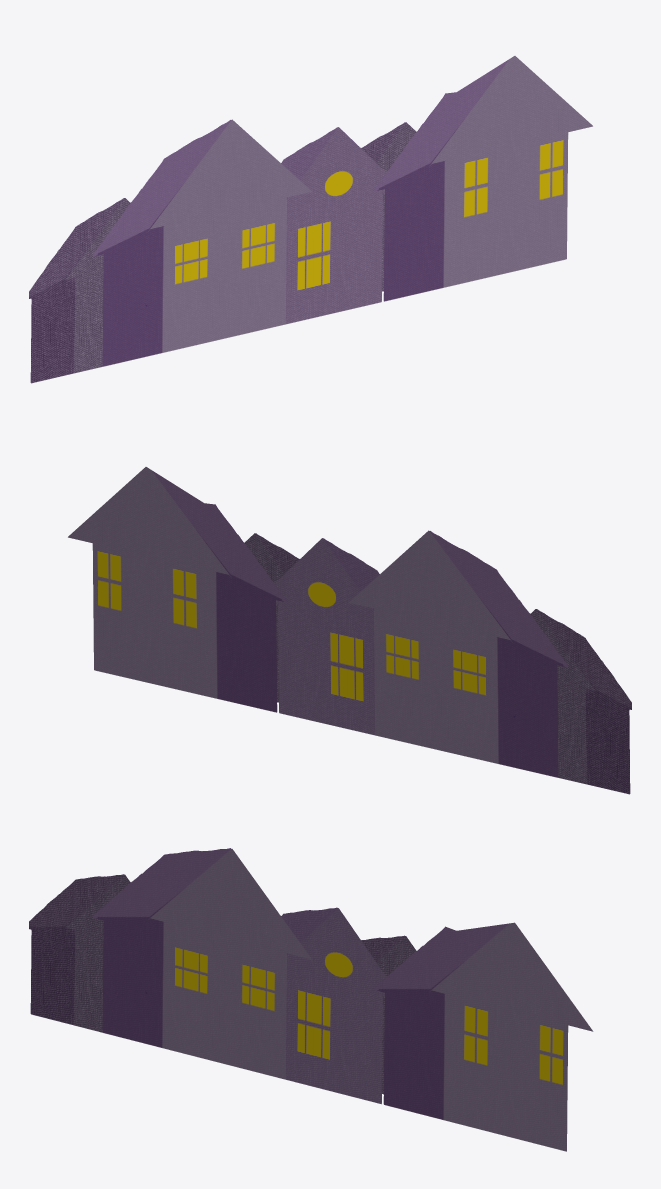
The model's file is house mesh updated.fbx.
3 views of the same model, one above another, from view 1: azimuth 30°, elevation 25°; view 2: azimuth 150°, elevation 25°; view 3: azimuth 330°, elevation 25° (orthographic).
Visible parts, largest first — view 1: houses; view 2: houses; view 3: houses.
Part boxes in pixels (left/top/right/bottom): houses: left=29, top=56, right=592, bottom=383; houses: left=68, top=467, right=631, bottom=794; houses: left=29, top=848, right=593, bottom=1151.
Size of the model in its own units: 912 by 338 by 0.
